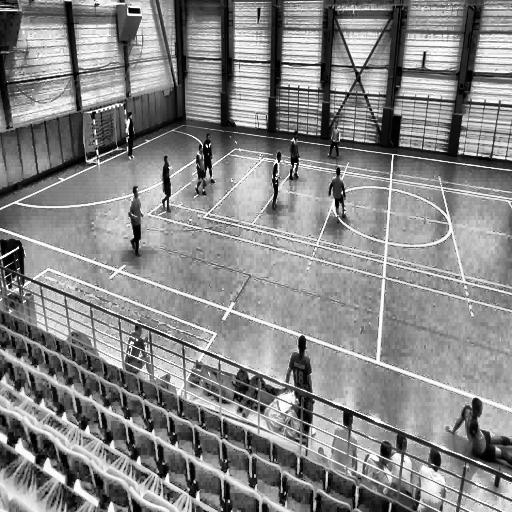ball: (342, 210, 348, 221)
player: (129, 184, 144, 258), (328, 166, 346, 224), (195, 142, 208, 198), (160, 154, 172, 213), (271, 150, 282, 211), (289, 130, 301, 180), (328, 118, 341, 160), (126, 112, 136, 160)
